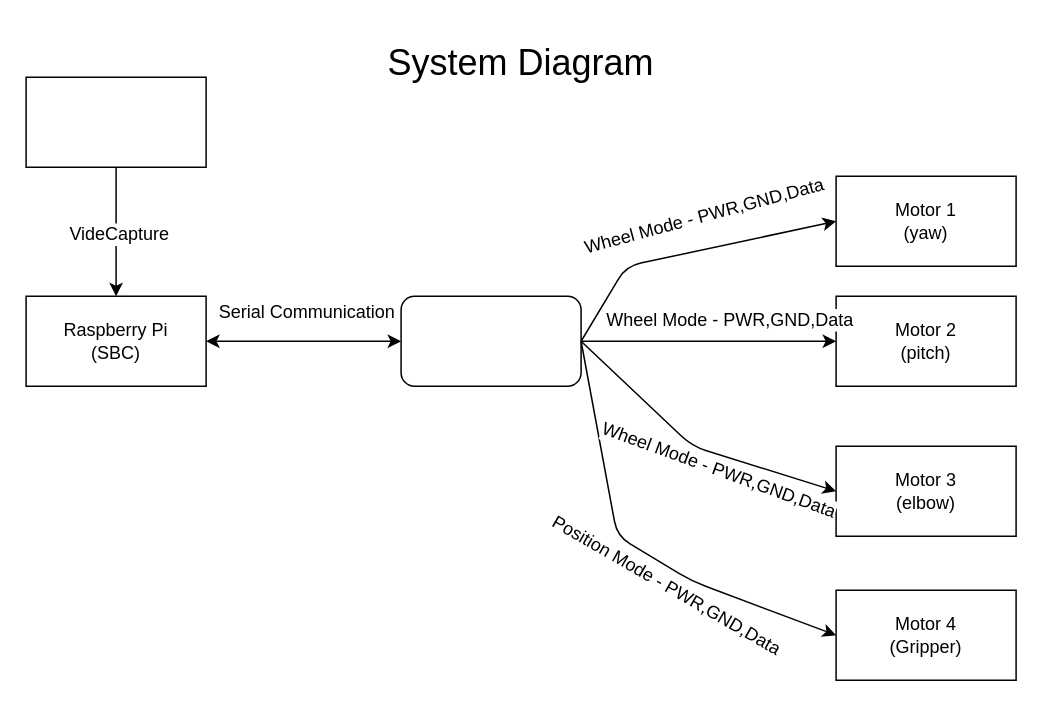
Some shapes in this 1043 by 707 pixel diagram are drawn without their labels. Here are the shapes that lost their labels. From the top down, the box of each, then its label:
(25, 76, 206, 167): Camera
(400, 295, 581, 386): OpenCM9.04 (uC)
